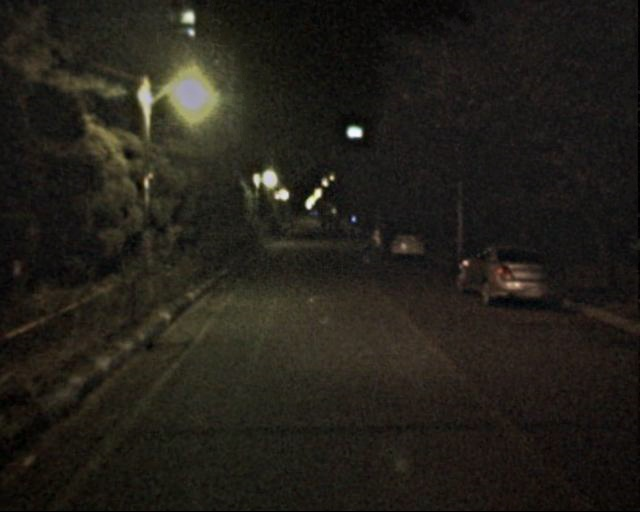person: (376, 220, 395, 267), (360, 225, 376, 263), (322, 222, 340, 239), (281, 217, 291, 241)
